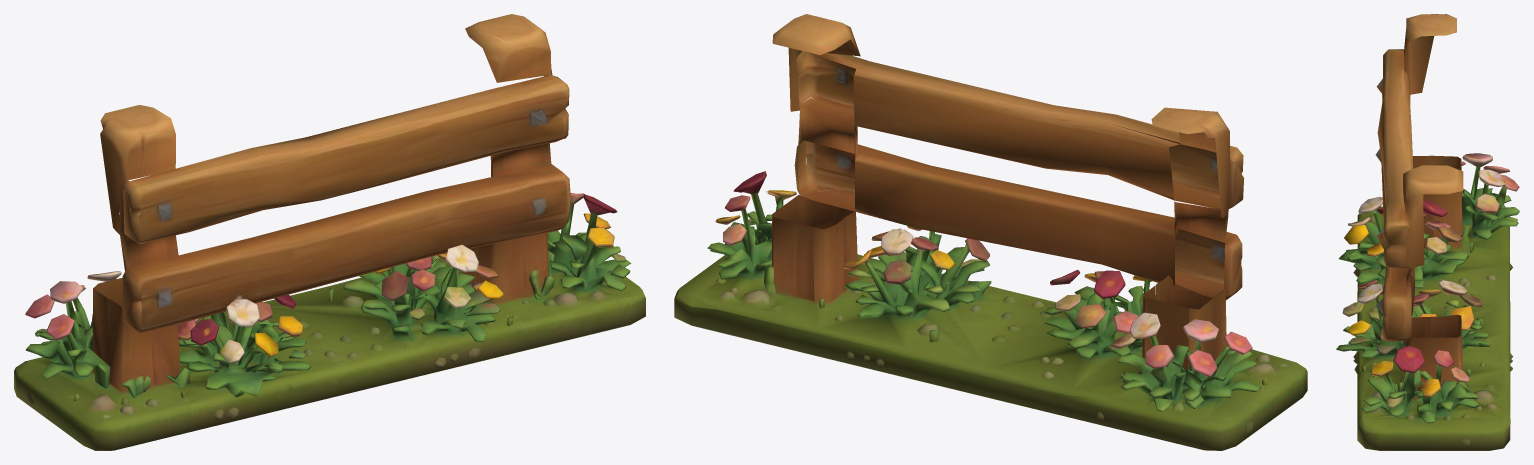
The model's file is fence_flowers.glb.
3 renders of one model, left to right at view 1: azimuth 30°, elevation 25°; view 2: azimuth 150°, elevation 25°; view 3: azimuth 270°, elevation 25°, orthographic. The views are drawn at different scales.
Visible parts, largest first — view 1: SkyRally_prop_forest_fence_flowers; view 2: SkyRally_prop_forest_fence_flowers; view 3: SkyRally_prop_forest_fence_flowers.
Part boxes in pixels (<box>): SkyRally_prop_forest_fence_flowers: <box>14,14,645,450</box>; SkyRally_prop_forest_fence_flowers: <box>674,14,1307,450</box>; SkyRally_prop_forest_fence_flowers: <box>1336,14,1519,450</box>.
Size of the model in its own units: 11 by 5.31 by 3.73.
Materials: 1 (1 with a texture image).
